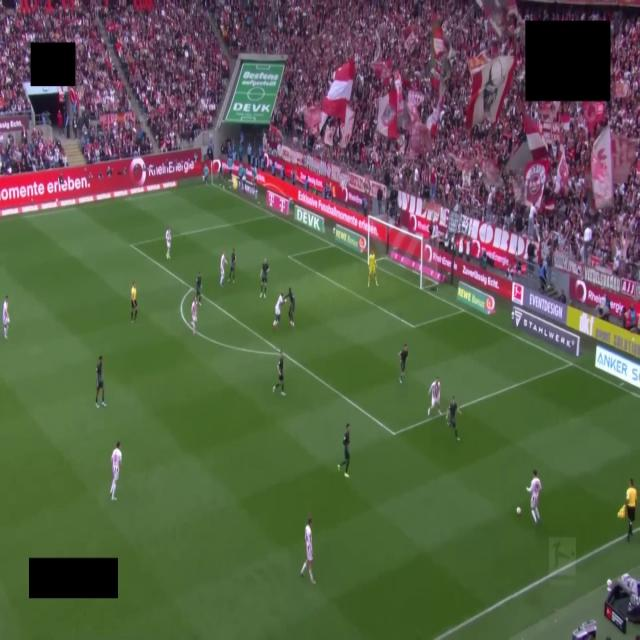ball: (516, 506, 522, 516)
player: (301, 518, 315, 584), (526, 470, 541, 525), (110, 442, 122, 500), (446, 396, 461, 440), (338, 424, 349, 478), (273, 352, 285, 396), (96, 356, 106, 407), (428, 377, 441, 415), (273, 293, 284, 328), (260, 258, 269, 298), (368, 252, 377, 287), (399, 344, 407, 383), (191, 297, 199, 335), (2, 296, 9, 339), (287, 288, 294, 327), (229, 248, 235, 283), (220, 252, 226, 286), (196, 272, 201, 303), (166, 228, 171, 259)
referee: (131, 281, 137, 322)
